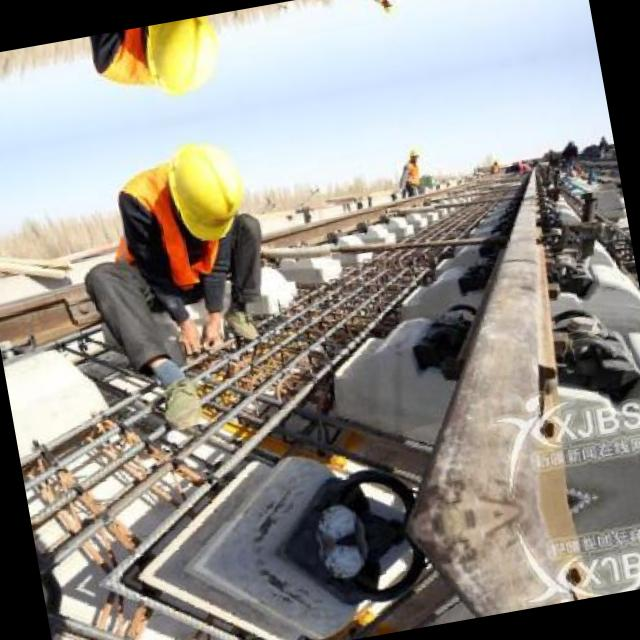helmet: (152, 128, 260, 248), (132, 12, 236, 104), (406, 144, 422, 160), (380, 0, 395, 15)
